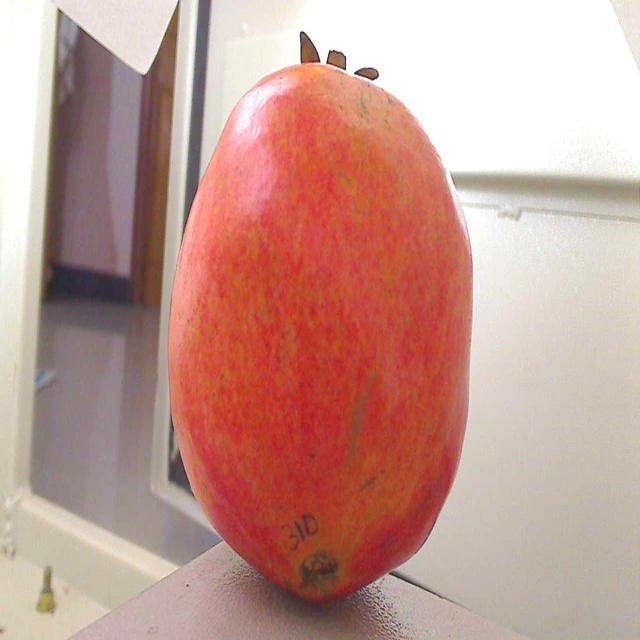pomegranate: (158, 29, 490, 627)
